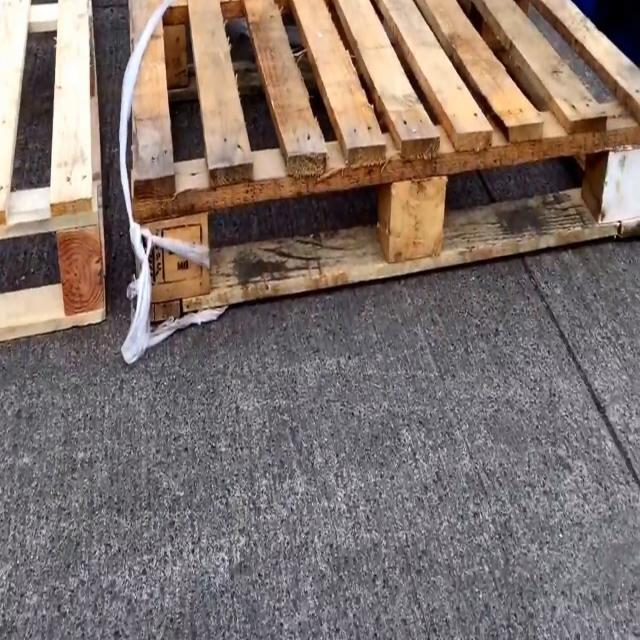Palette: (126, 0, 640, 338), (0, 0, 114, 347)
